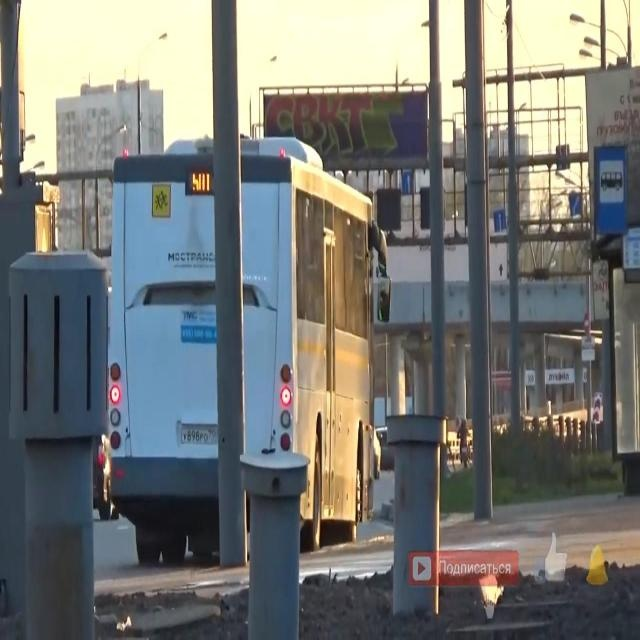Bus: (103, 115, 395, 569)
